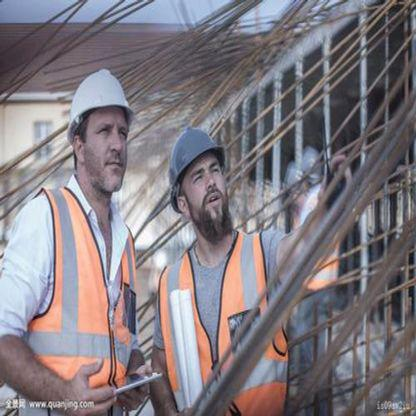helmet: (66, 70, 130, 133), (164, 131, 222, 194)
vest: (159, 233, 290, 415), (33, 186, 144, 369)
